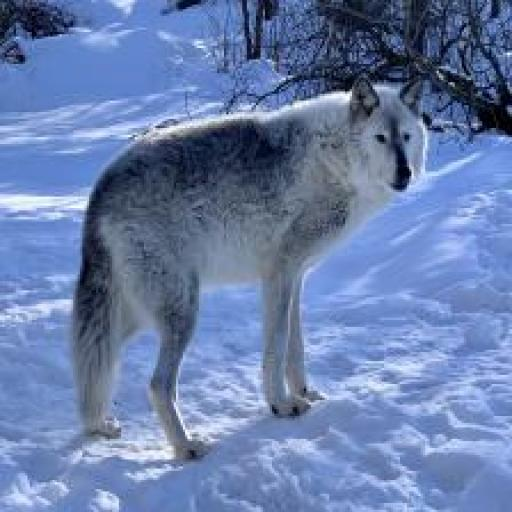wolf: (53, 64, 464, 469)
